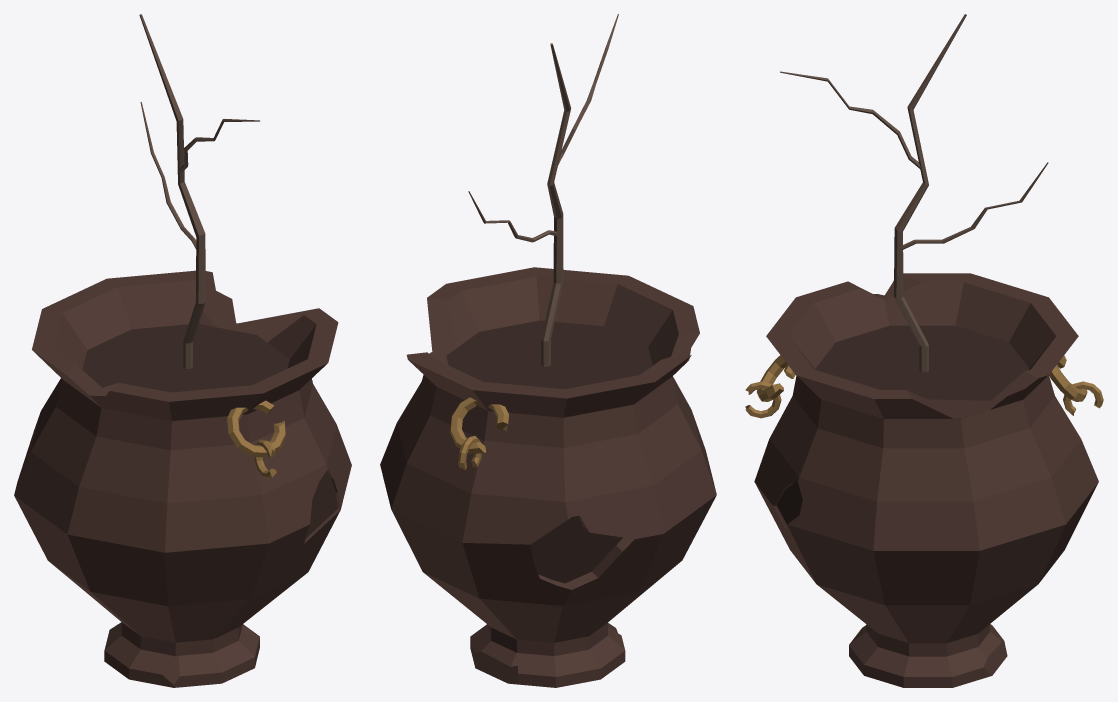
Rendered from Small Pot with Plant.fbx.
The picture shows the model from 3 angles, left to right: view 1: azimuth 30°, elevation 25°; view 2: azimuth 150°, elevation 25°; view 3: azimuth 270°, elevation 25°; orthographic projection.
Visible parts, largest first — view 1: Small Pot with Plant; view 2: Small Pot with Plant; view 3: Small Pot with Plant.
Part boxes in pixels (left/top/right/bottom): Small Pot with Plant: left=14, top=14, right=351, bottom=687; Small Pot with Plant: left=380, top=14, right=716, bottom=687; Small Pot with Plant: left=745, top=14, right=1103, bottom=687.
Bounding box in the file's own units: 86.79 × 184 × 94.91.
